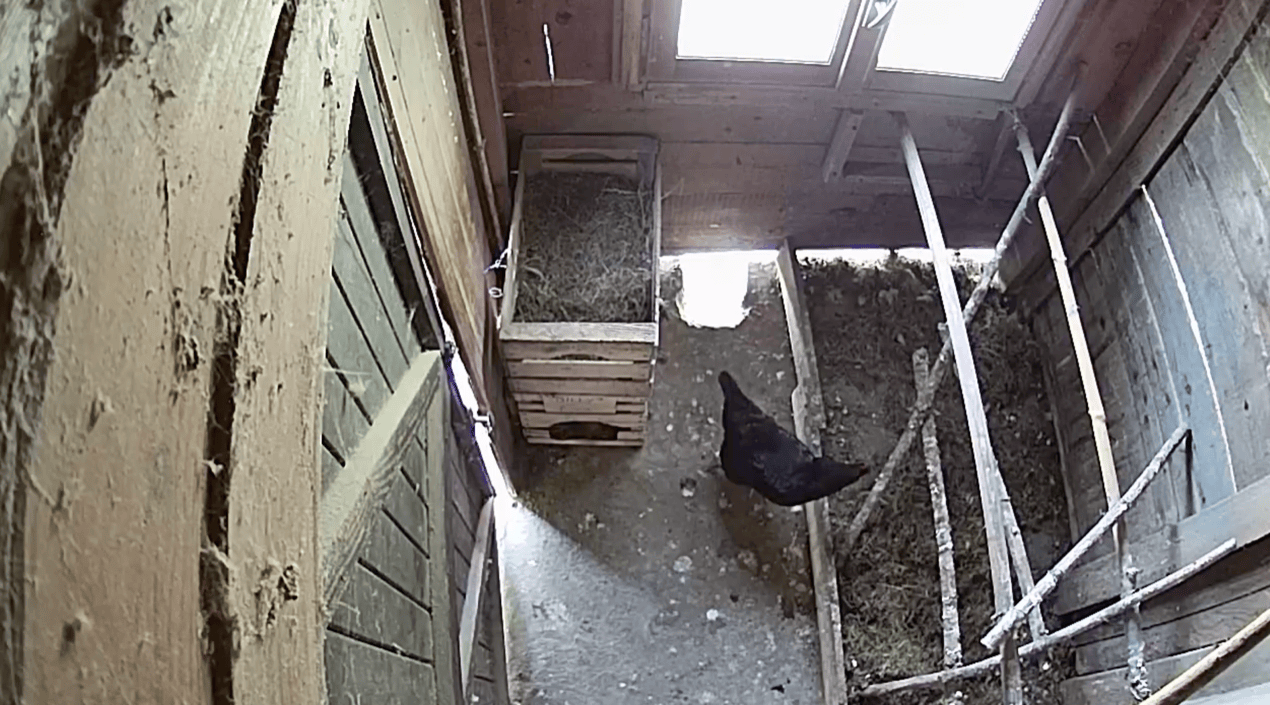chicken: (691, 358, 883, 524)
